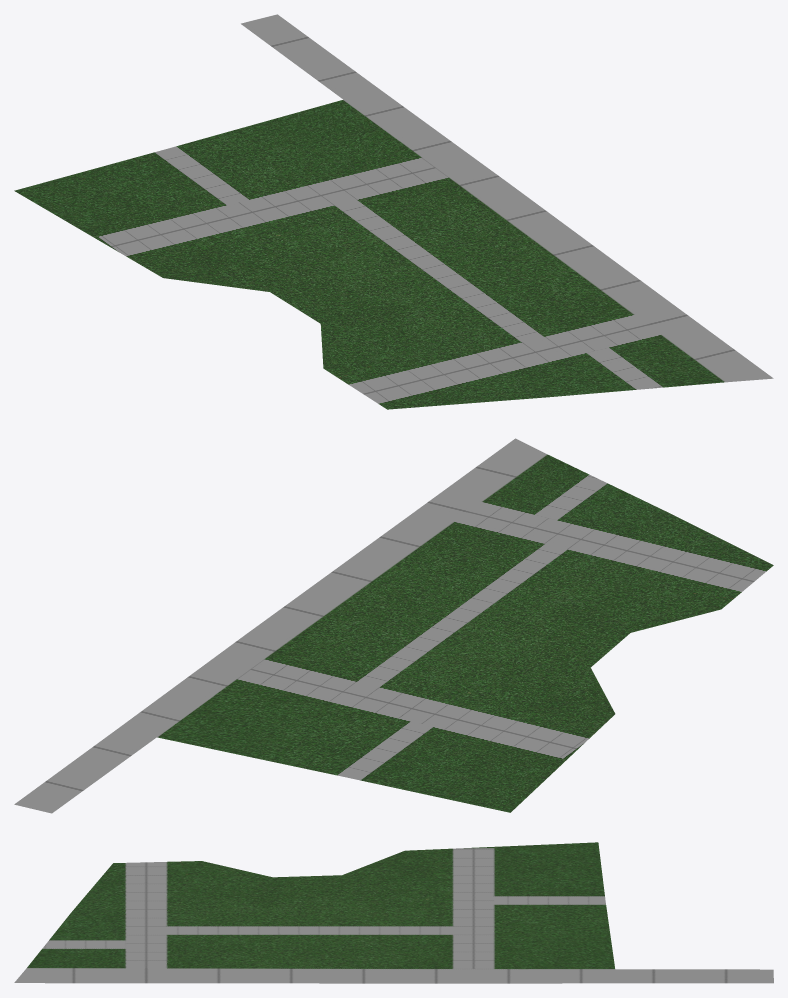
The model's file is T_road.fbx.
The picture shows the model from 3 angles, top to bottom: view 1: azimuth 30°, elevation 25°; view 2: azimuth 150°, elevation 25°; view 3: azimuth 270°, elevation 25°; orthographic projection. The views are drawn at different scales.
Visible parts, largest first — view 1: pPlane1; view 2: pPlane1; view 3: pPlane1.
Boxes of the visible parts, x1,y1,x2,y2 form: pPlane1: (14, 14, 773, 409); pPlane1: (14, 438, 773, 813); pPlane1: (14, 842, 773, 983).
Bounding box in the file's own units: 0.0546 × 1.86e-11 × 0.1241.
1 material, 1 textured.
